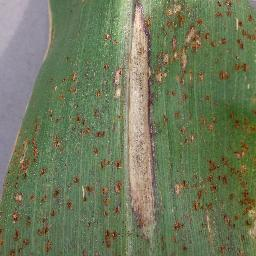Corn_Blight: (0, 30, 119, 256), (161, 1, 256, 143), (122, 0, 160, 254), (175, 142, 256, 254)
